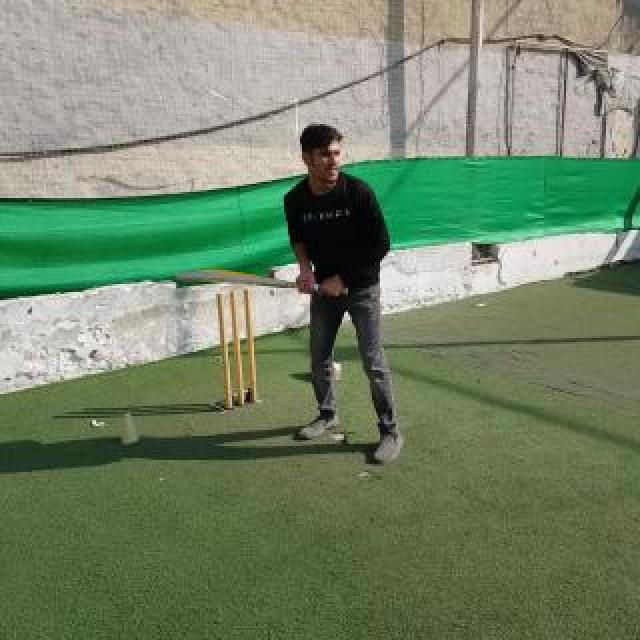bat: (176, 268, 348, 296)
